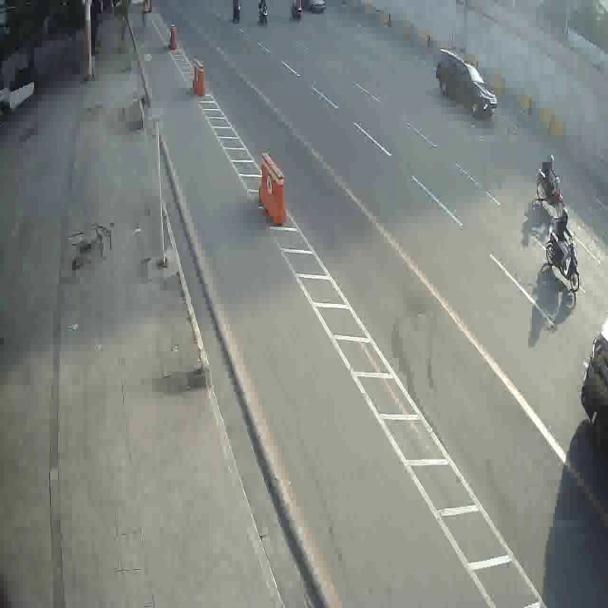motorcyclist: (542, 204, 580, 299), (534, 157, 566, 219)
vehicle: (432, 49, 500, 119)
